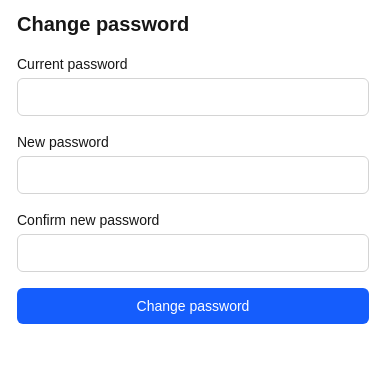
Test: ChangePasswordFormView › shows the server's error message and no success message
In the password field labelled "Current password": [193, 97] box left=17, top=78, right=369, bottom=116, type "old-password"
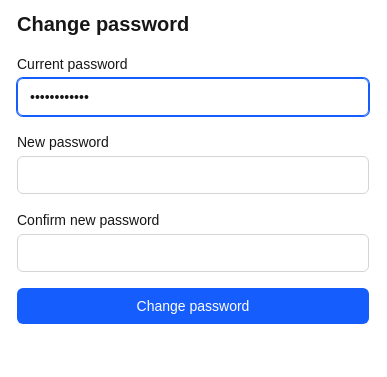
In the password field labelled "New password": [193, 175] box left=17, top=156, right=369, bottom=194, type "new-password"
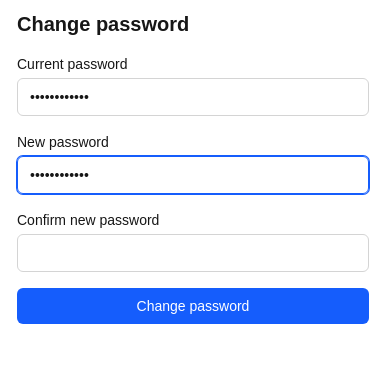
In the password field labelled "Confirm new password": [193, 253] box left=17, top=234, right=369, bottom=272, type "new-password"
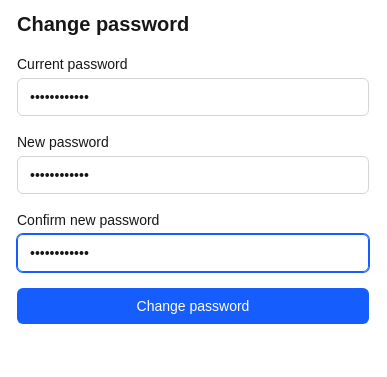
Click the button "Change password": [193, 306] box left=17, top=288, right=369, bottom=324
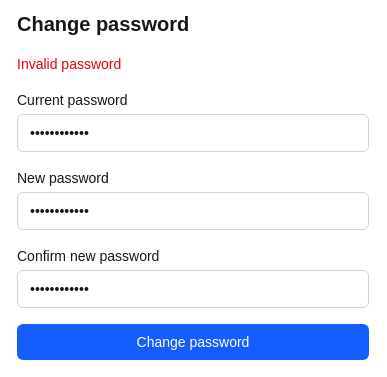
Result: the message reads "Invalid password" at left=17, top=56, right=121, bottom=72
